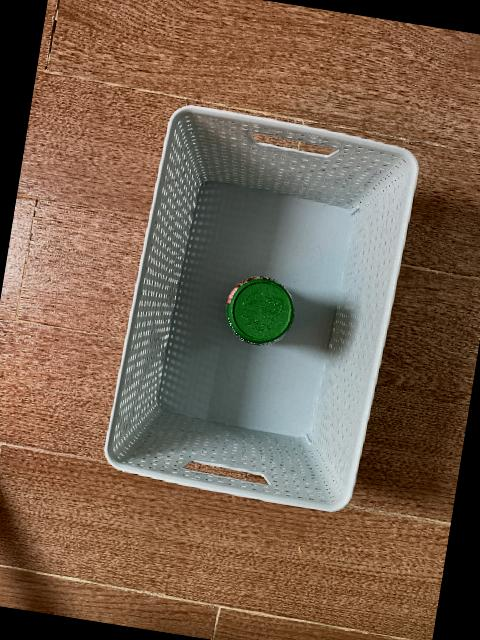cart: (104, 105, 418, 513)
milo: (225, 276, 295, 347)
